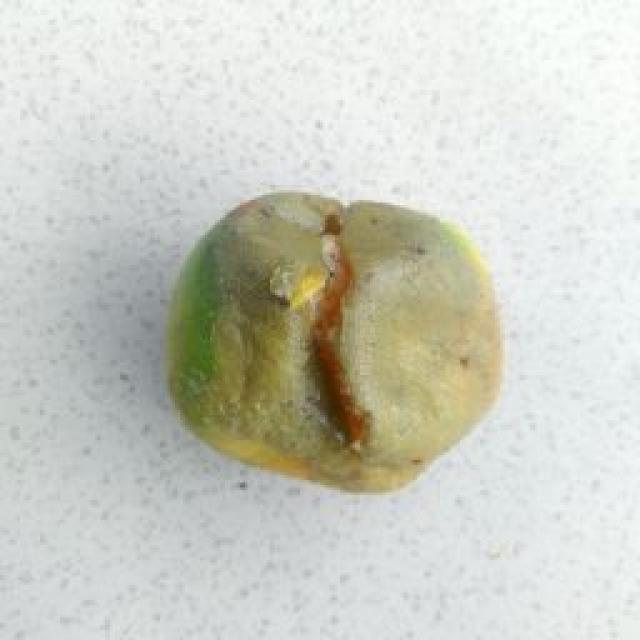Bad_Orange: (166, 192, 498, 491)
